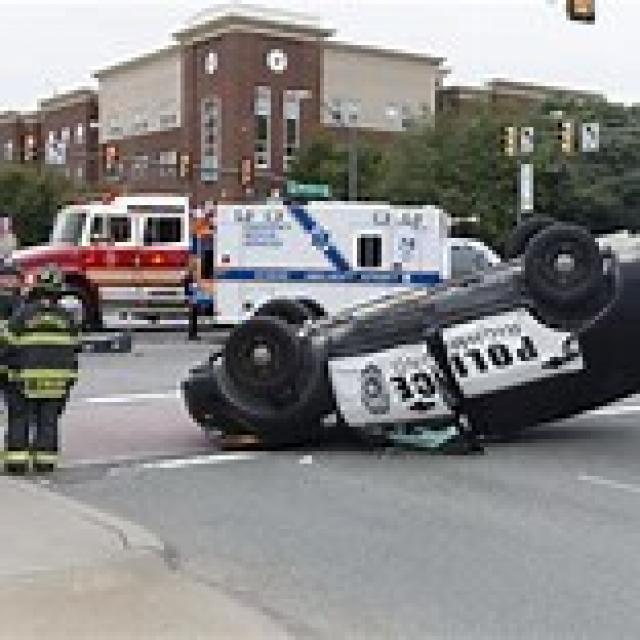Accident: (176, 205, 640, 525)
